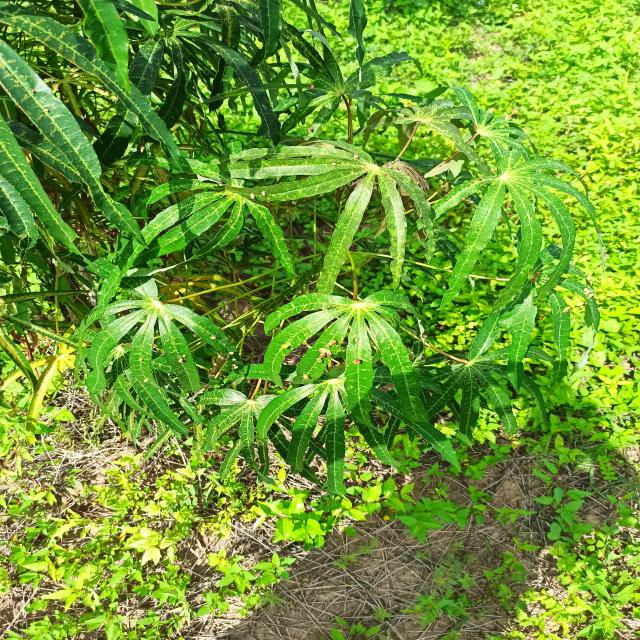Maleza: (0, 485, 245, 636), (523, 0, 638, 137)
Mosca: (315, 346, 339, 370), (226, 349, 239, 373), (243, 189, 270, 200), (326, 335, 340, 350), (278, 341, 294, 353), (301, 368, 313, 384), (142, 372, 152, 387), (352, 355, 363, 368), (352, 150, 363, 161), (135, 352, 147, 362), (208, 331, 218, 341), (173, 354, 186, 361)
